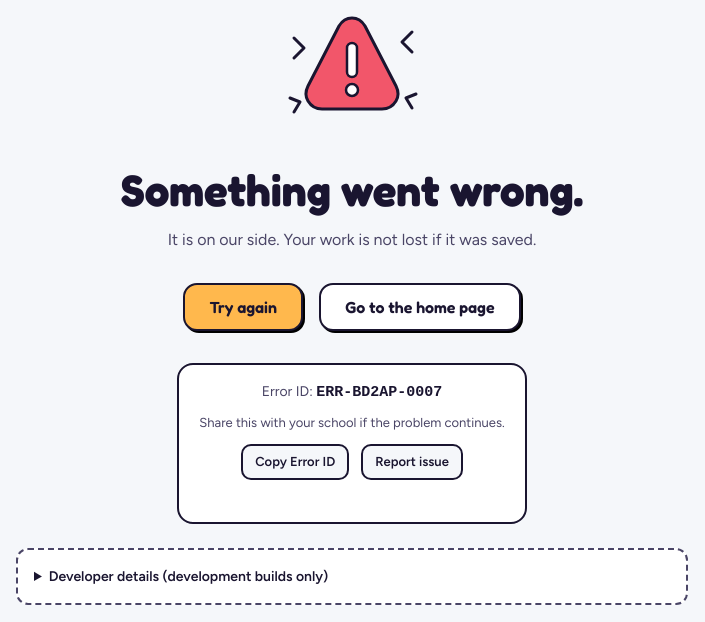
Test: PUB-13: ErrorBoundary and ErrorFallback (SH-11) › offers a full reload when the retry throws again
Click the button "Try again": (243, 307) x1=184 y1=283 x2=303 y2=331
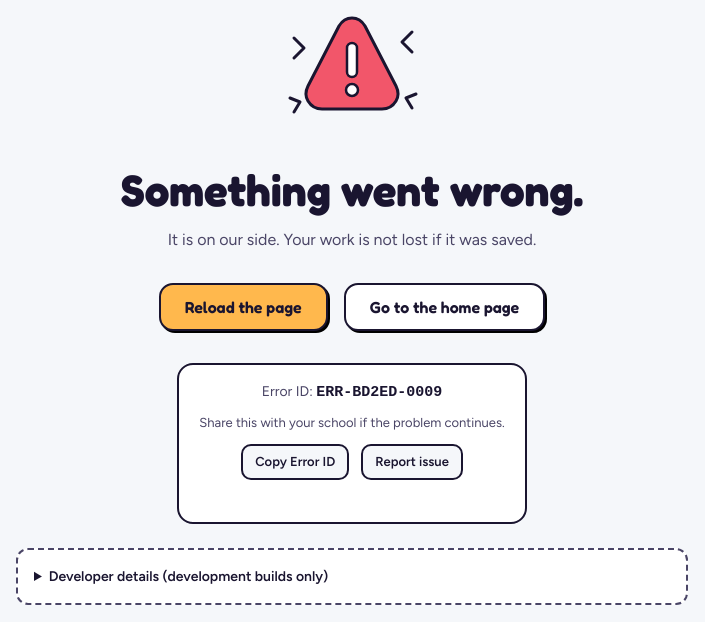
Expected: the heading "Something went wrong." is shown, x1=121 y1=162 x2=583 y2=217
Expected: the button "Reload the page" is shown, x1=159 y1=283 x2=328 y2=331
Expected: the button "Try again" is gone
